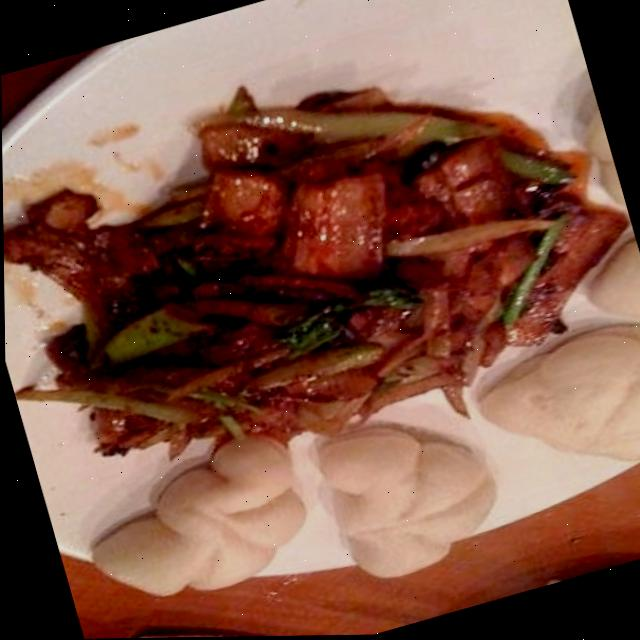猪肉菜式: (0, 26, 640, 558)
